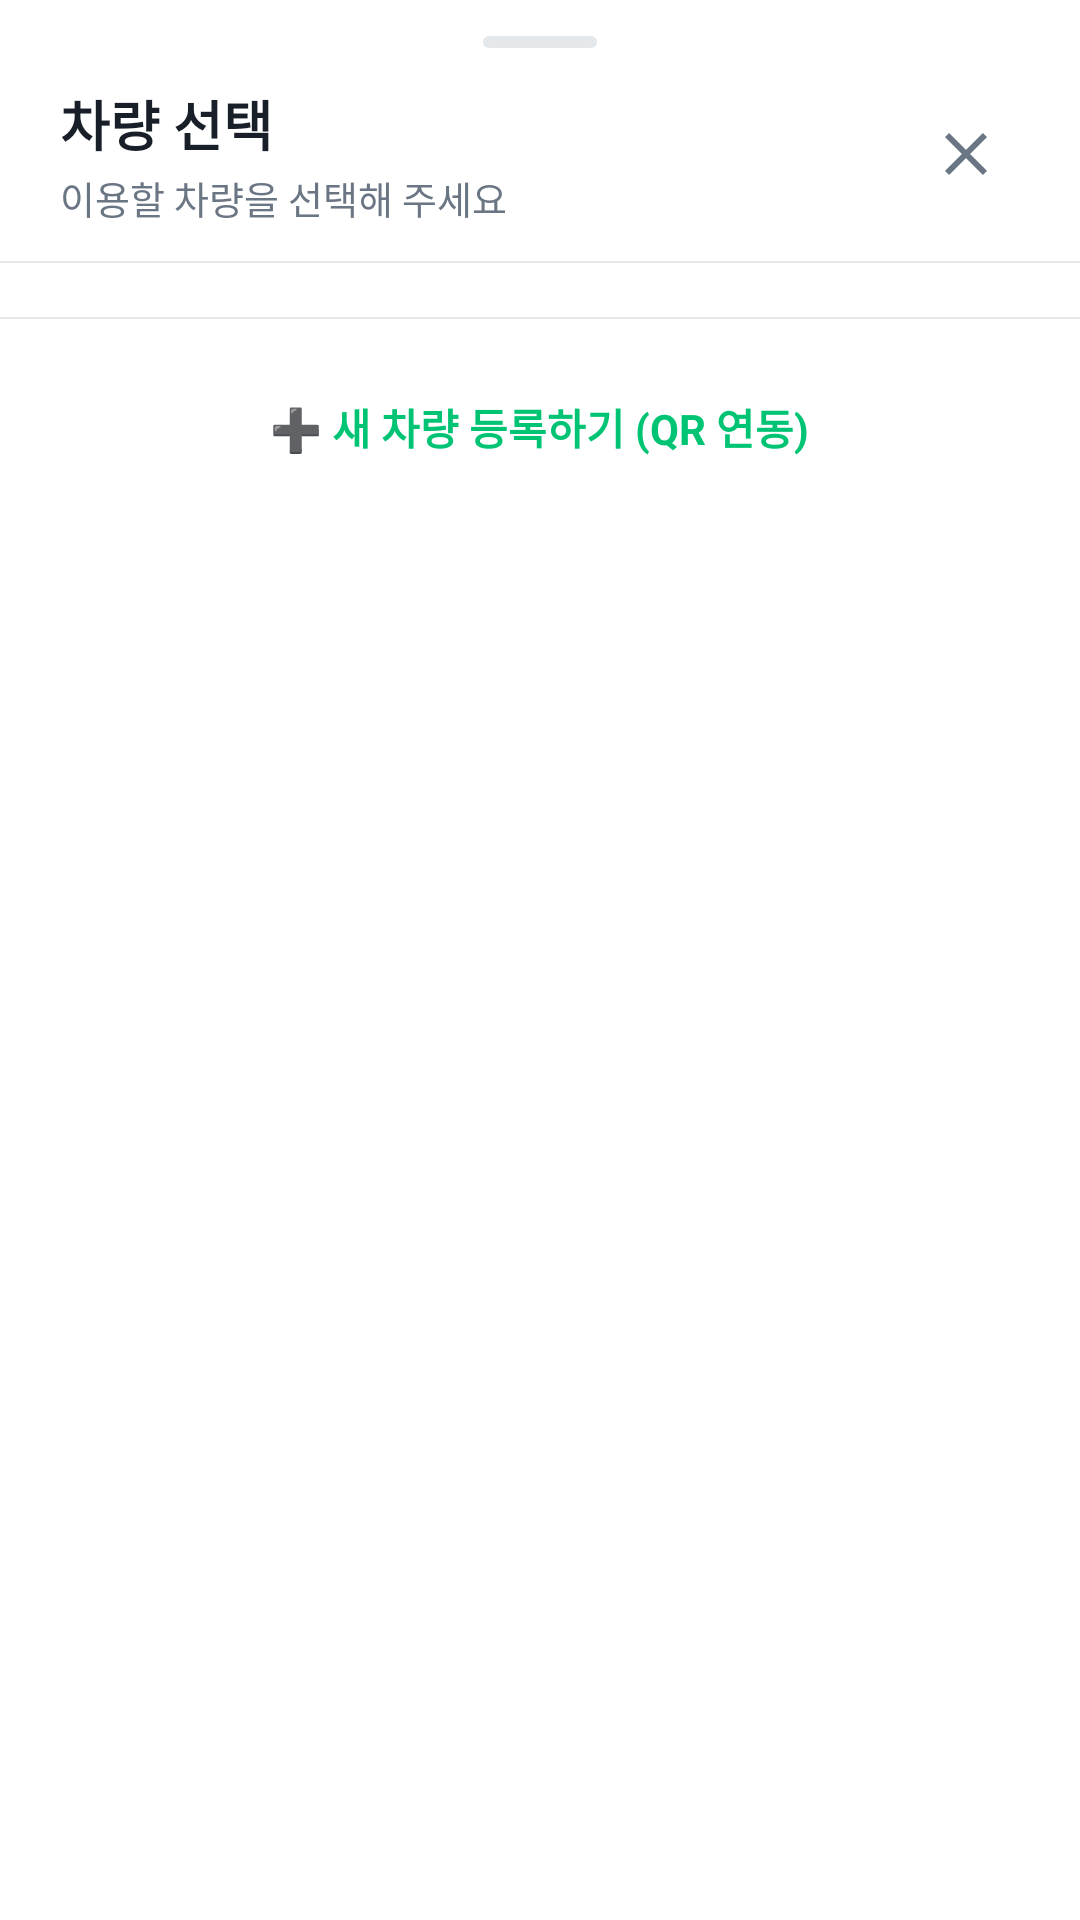

Named icons in this screenshot (1080px x 1920px) and their centers, [x,y]:
닫기: [966,154]
